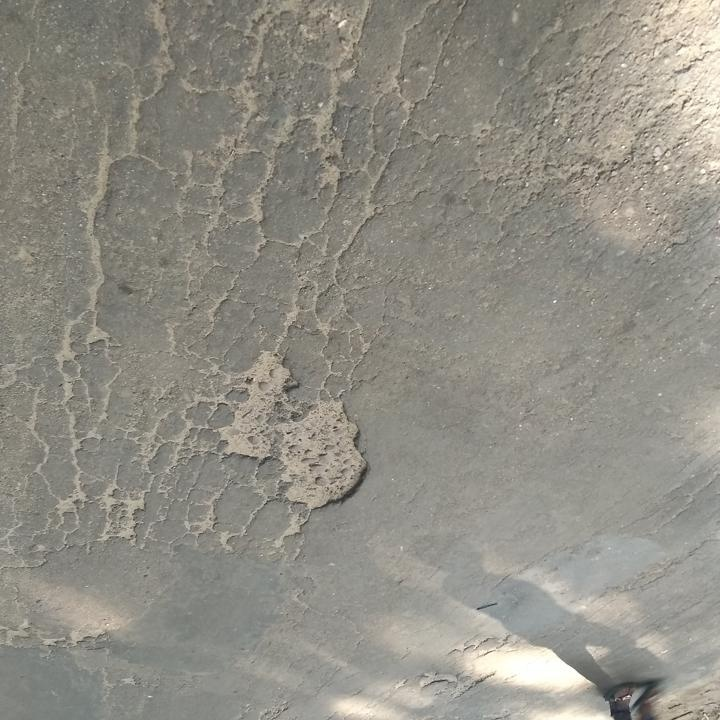pothole: (211, 347, 370, 519)
